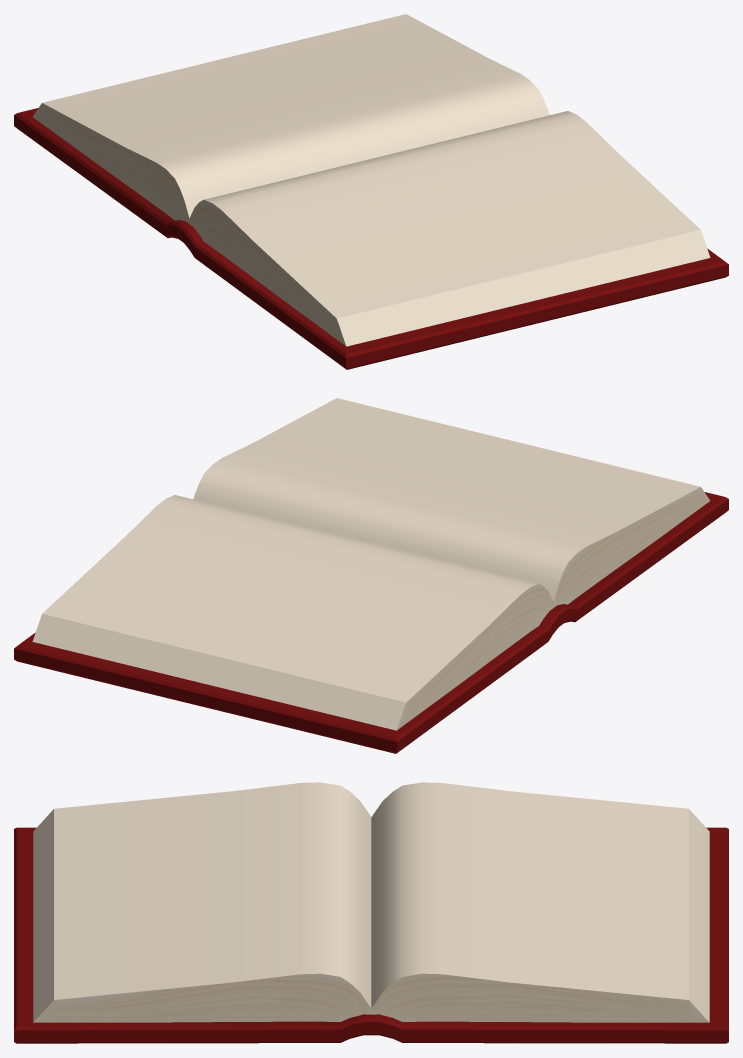
File: LivreOuvert_A.fbx
3 views of the same model, one above another, from view 1: azimuth 30°, elevation 25°; view 2: azimuth 150°, elevation 25°; view 3: azimuth 270°, elevation 25° (orthographic). The views are drawn at different scales.
Parts seen in each view (by area): view 1: Livre_ouvert_A; view 2: Livre_ouvert_A; view 3: Livre_ouvert_A.
Boxes of the visible parts, box(x1,y1,x2,y2) form: Livre_ouvert_A: box(14, 14, 728, 369); Livre_ouvert_A: box(14, 398, 728, 753); Livre_ouvert_A: box(14, 782, 728, 1043).
Size of the model in its own units: 52.54 by 8.04 by 78.88.
